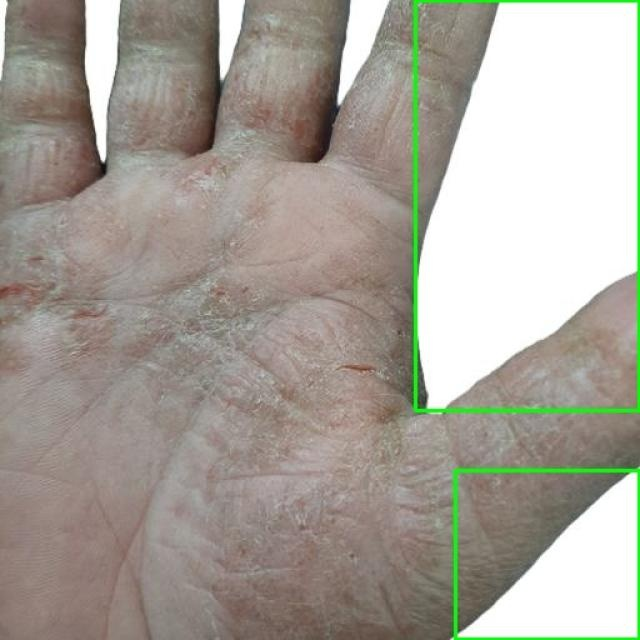Contact Dermatitis: (415, 0, 639, 410), (455, 470, 639, 639)
